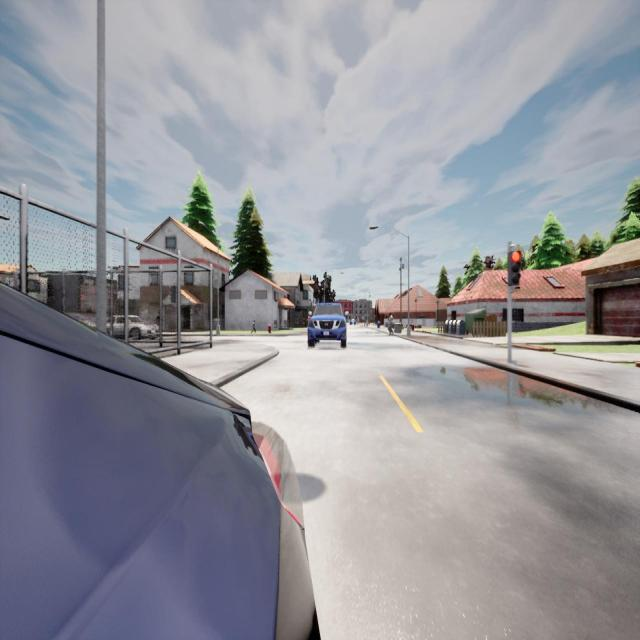Pedestrian: (388, 312, 393, 336), (251, 320, 256, 334)
Vehicle: (0, 284, 316, 638), (308, 303, 347, 347), (107, 316, 160, 338), (349, 318, 356, 326)
traffic_light: (508, 252, 520, 286), (171, 286, 176, 303)
